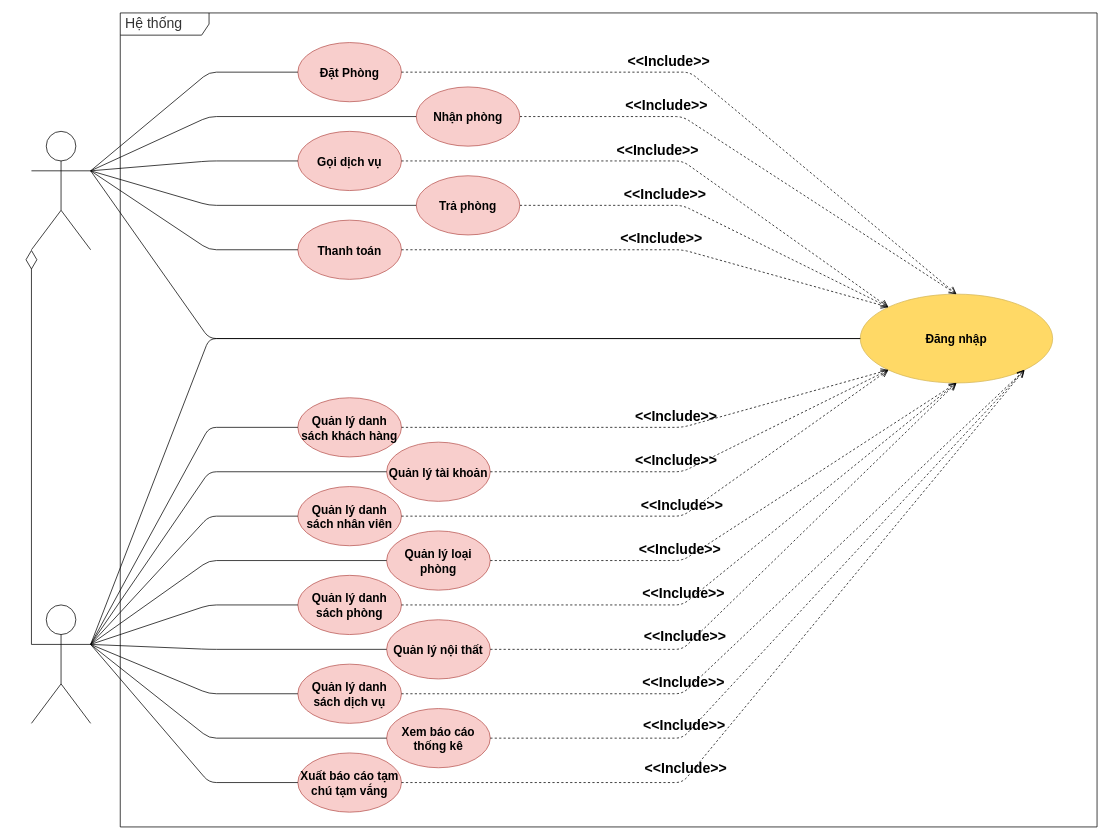
This 1110x840 diagram has some shape labels left out. Each missing label, with the centre of its shape:
Lễ tân: pixel 61 190
Quản lý: pixel 61 663
